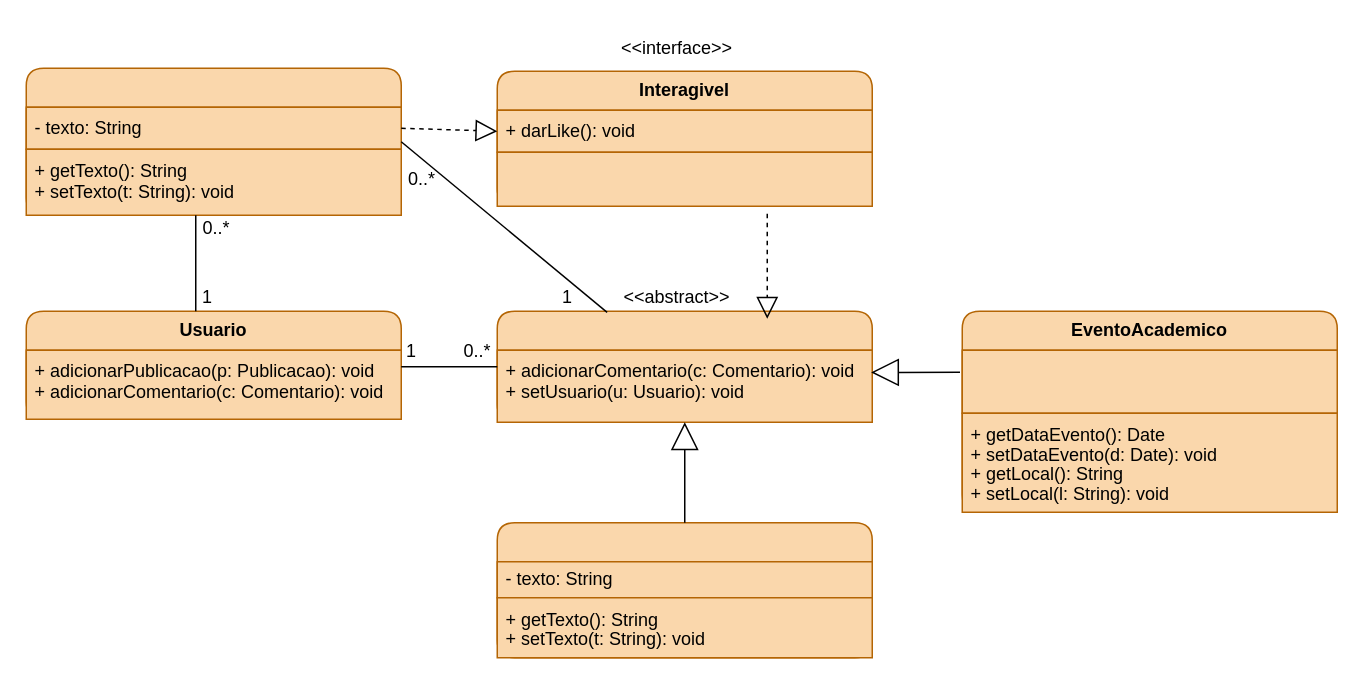
This 1364x684 diagram has some shape labels left out. Each missing label, with the box of its shape:
+ getQuantidadeLikes(): int: (496, 151, 872, 206)
- dataEvento: Date - local: String: (961, 349, 1337, 413)
Comentario: (25, 67, 401, 215)
PostagemTexto: (496, 521, 872, 658)
Publicacao: (496, 310, 872, 422)
